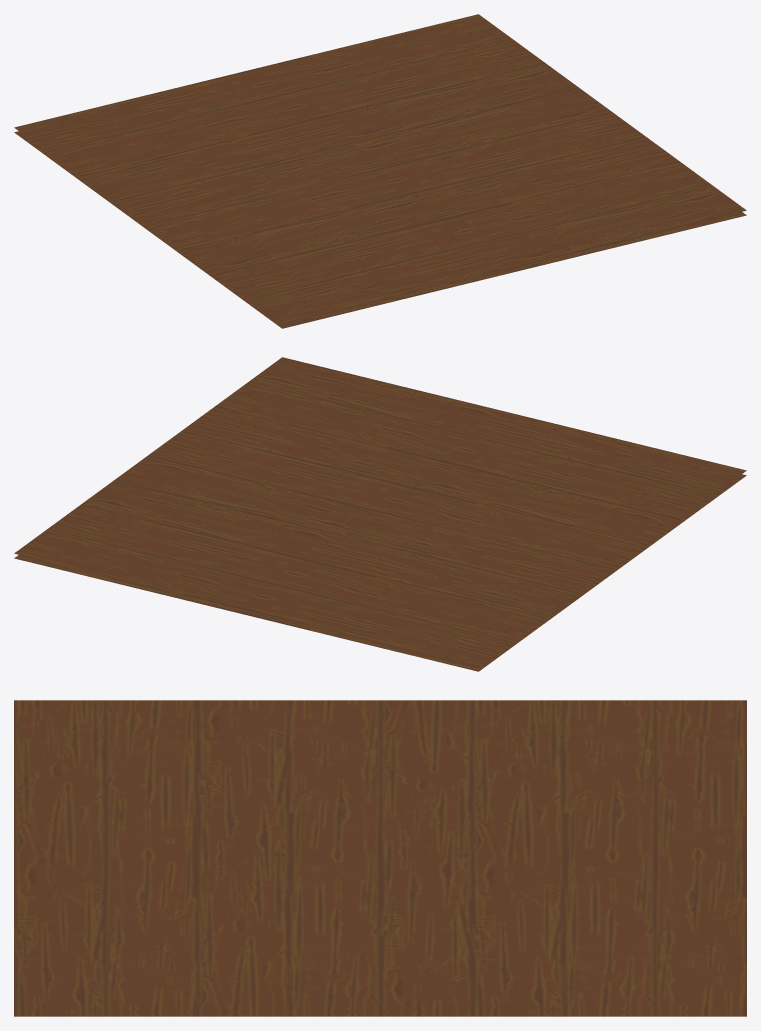
Rendered from Floor_WoodDark.obj.
3 renders of one model, top to bottom at view 1: azimuth 30°, elevation 25°; view 2: azimuth 150°, elevation 25°; view 3: azimuth 270°, elevation 25°, orthographic. The views are drawn at different scales.
Parts seen in each view (by area): view 1: Floor_WoodDark; view 2: Floor_WoodDark; view 3: Floor_WoodDark.
Part boxes in pixels (box(x1,y1,x2,y2)): Floor_WoodDark: box(14, 14, 746, 328); Floor_WoodDark: box(14, 357, 746, 671); Floor_WoodDark: box(14, 700, 746, 1016).
Bounding box in the file's own units: 2 × 0.02 × 2.
